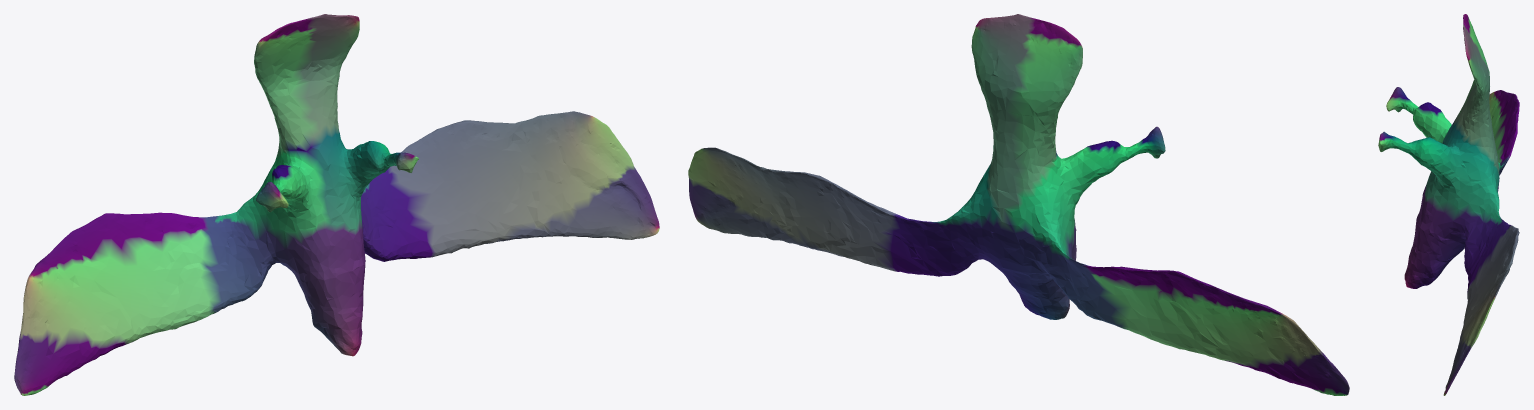
Rendered from bird2-14.off.obj.
The picture shows the model from 3 angles, left to right: view 1: azimuth 30°, elevation 25°; view 2: azimuth 150°, elevation 25°; view 3: azimuth 270°, elevation 25°; orthographic projection. The views are drawn at different scales.
Size of the model in its own units: 1.65 by 0.7817 by 0.3853.
